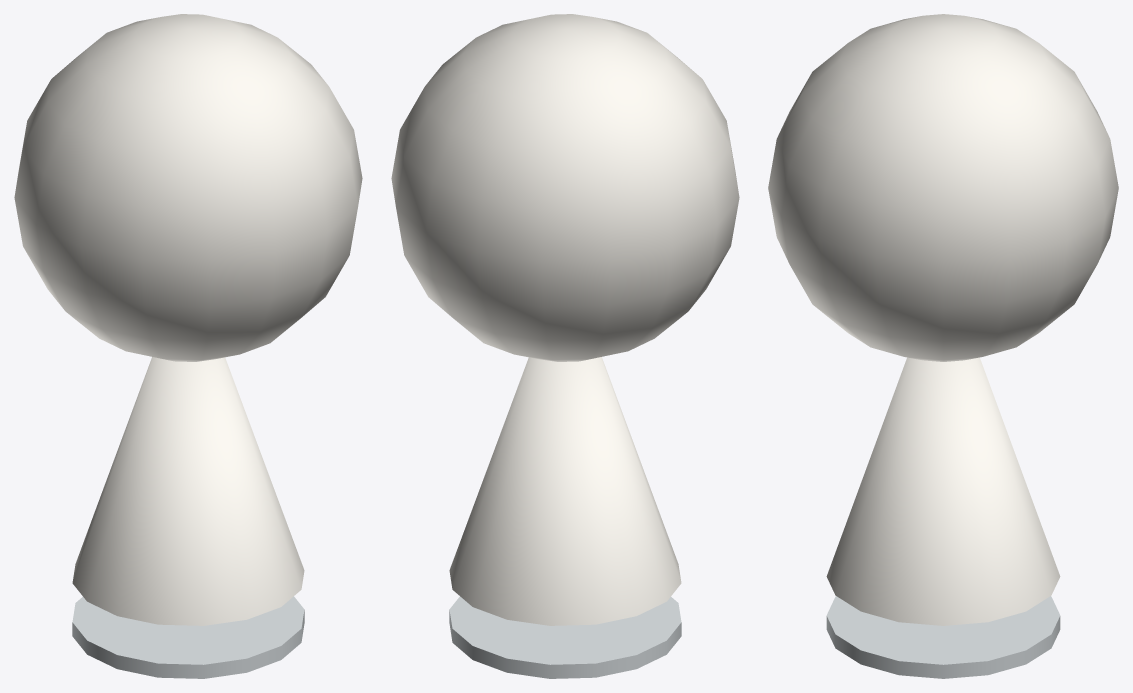
File: m_pin.gltf
3 renders of one model, left to right at view 1: azimuth 30°, elevation 25°; view 2: azimuth 150°, elevation 25°; view 3: azimuth 270°, elevation 25°, orthographic.
Visible parts, largest first — view 1: m_pin; view 2: m_pin; view 3: m_pin.
Boxes of the visible parts, x1,y1,x2,y2 form: m_pin: [14, 14, 362, 678]; m_pin: [391, 14, 739, 678]; m_pin: [768, 14, 1118, 678].
Size of the model in its own units: 0.9 by 1.7 by 0.9.
Materials: 1 (1 with a texture image).
